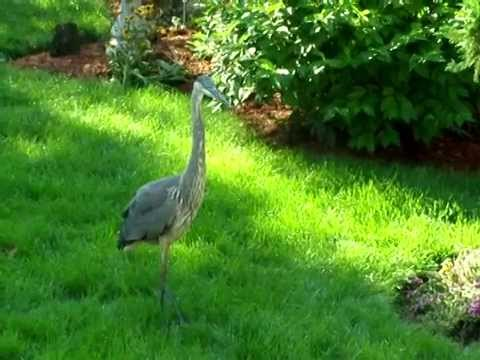heron: (111, 69, 228, 312)
